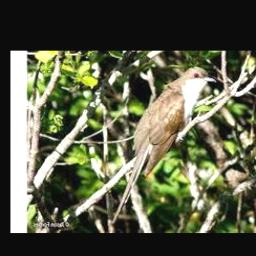Cuckoo: (112, 66, 217, 224)
